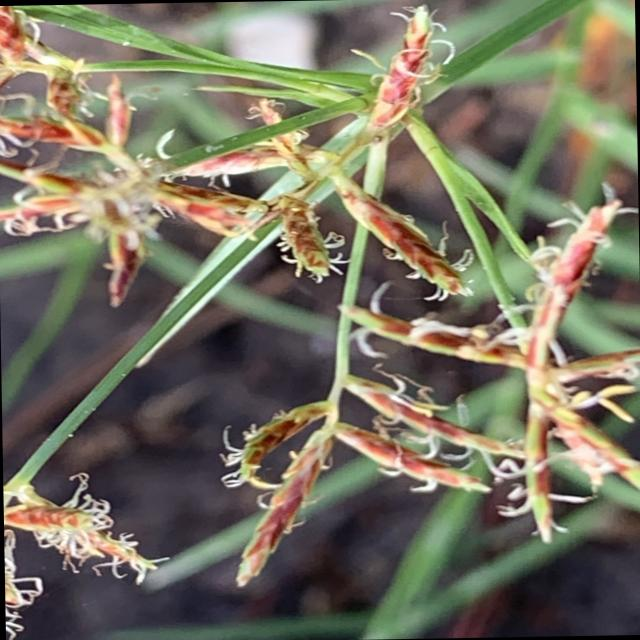cyperus: (0, 0, 640, 630), (232, 163, 640, 545), (0, 0, 480, 304), (2, 432, 152, 633)
